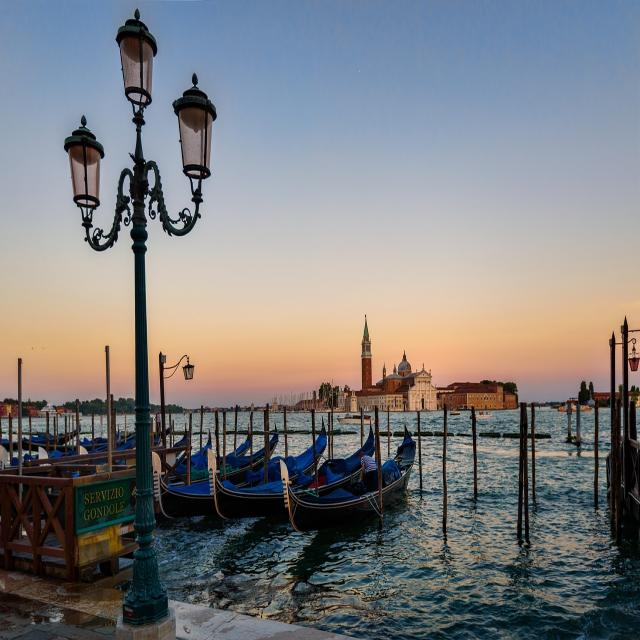boat: (202, 416, 382, 537), (274, 434, 425, 542), (140, 441, 281, 528)
